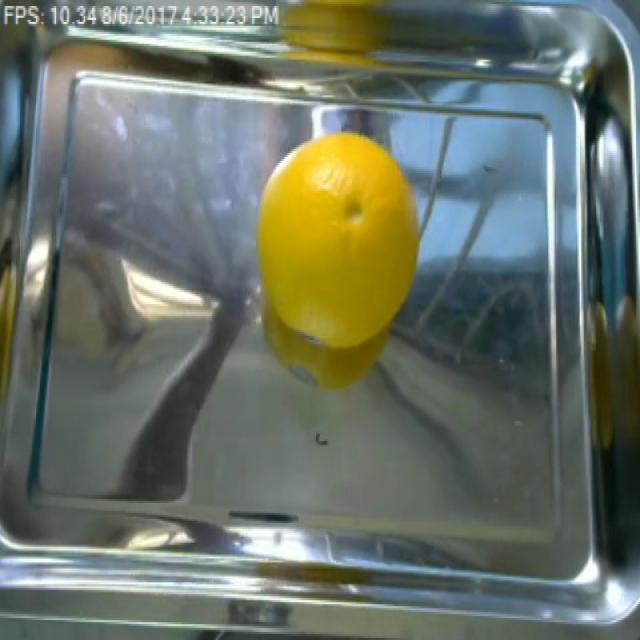Fruit: (252, 121, 428, 390)
